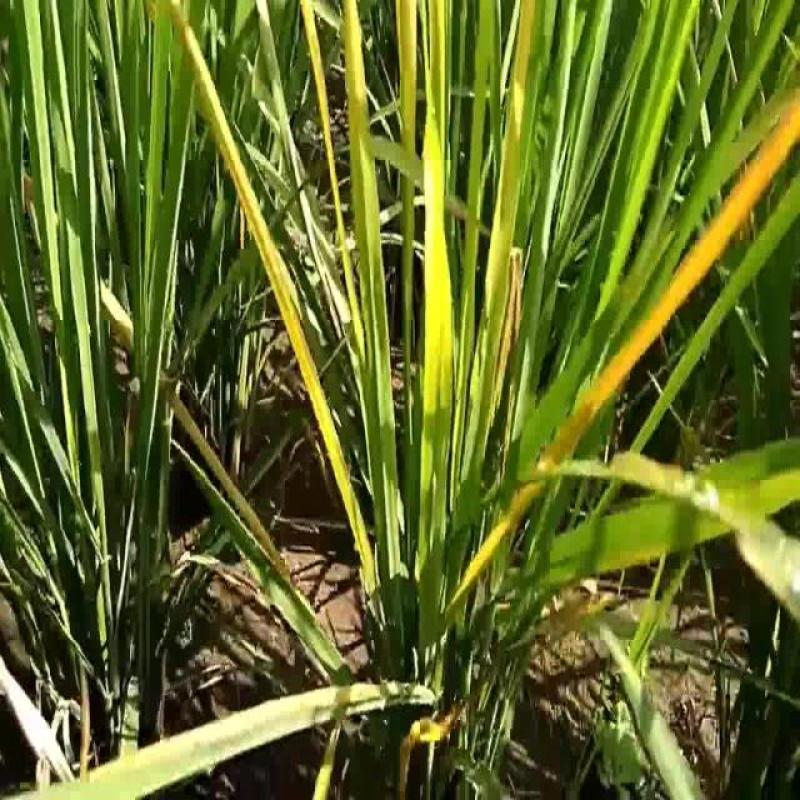Rice Tungro: (520, 115, 795, 527), (175, 14, 300, 382), (476, 15, 539, 409), (428, 19, 462, 376), (390, 5, 422, 257)
